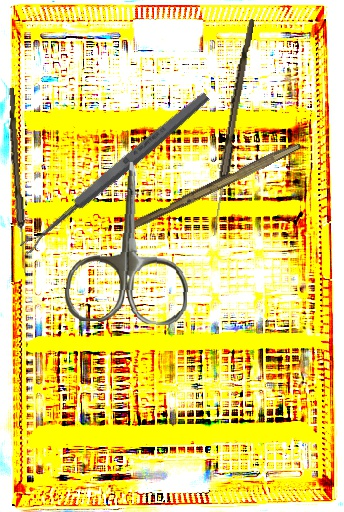Iris Scissors: (63, 158, 195, 327)
Scalpel Handle: (128, 137, 302, 234)
Surgical Spoon: (18, 89, 212, 256), (209, 17, 255, 238), (4, 87, 31, 274)
